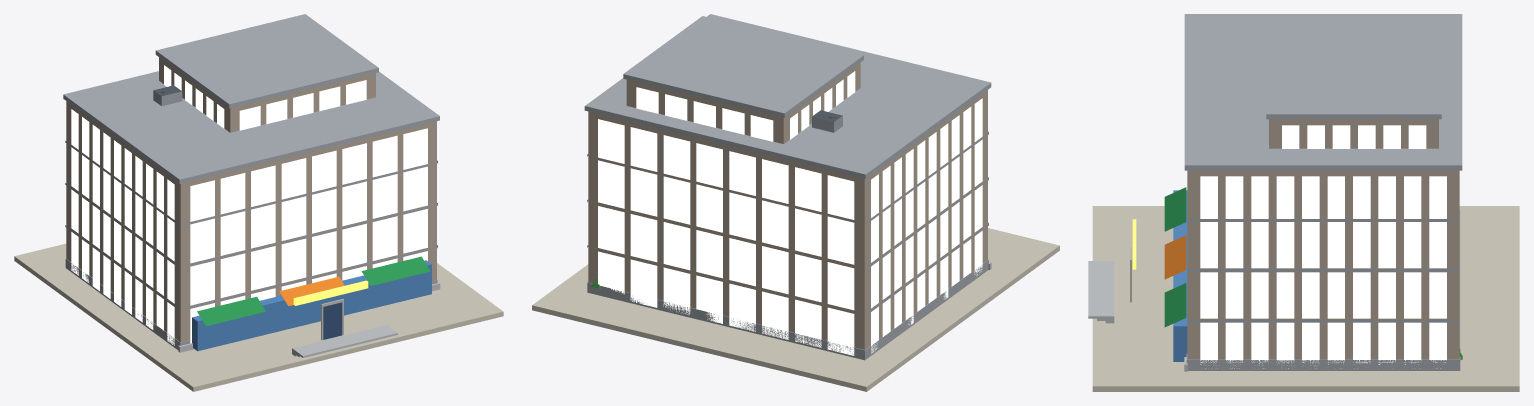
The picture shows the model from 3 angles, left to right: view 1: azimuth 30°, elevation 25°; view 2: azimuth 150°, elevation 25°; view 3: azimuth 270°, elevation 25°; orthographic projection. The views are drawn at different scales.
Visible parts, largest first — view 1: b18_x2; view 2: b18_x2; view 3: b18_x2.
Part boxes in pixels (x1,y1,x2,y2): b18_x2: (14, 14, 503, 391); b18_x2: (532, 14, 1059, 391); b18_x2: (1088, 14, 1519, 391).
Bounding box in the file's own units: 1.96 × 1.25 × 1.98.
